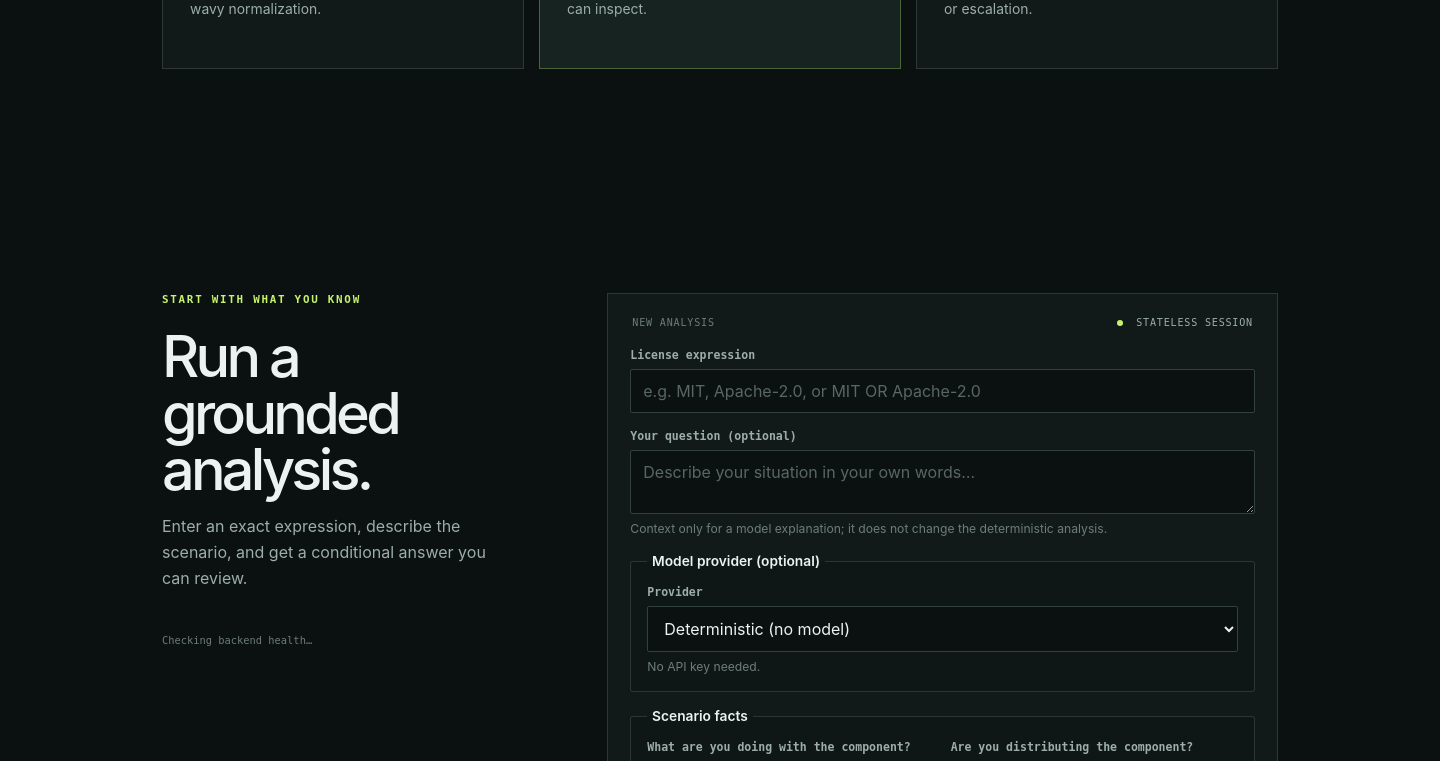
analysis experience › renders an abstention state for a blocked answer
(page scrolled)
Type "Apache-2.0" into the field labelled "License expression" at [943, 391], box 630,369 -> 1255,413
(page scrolled)
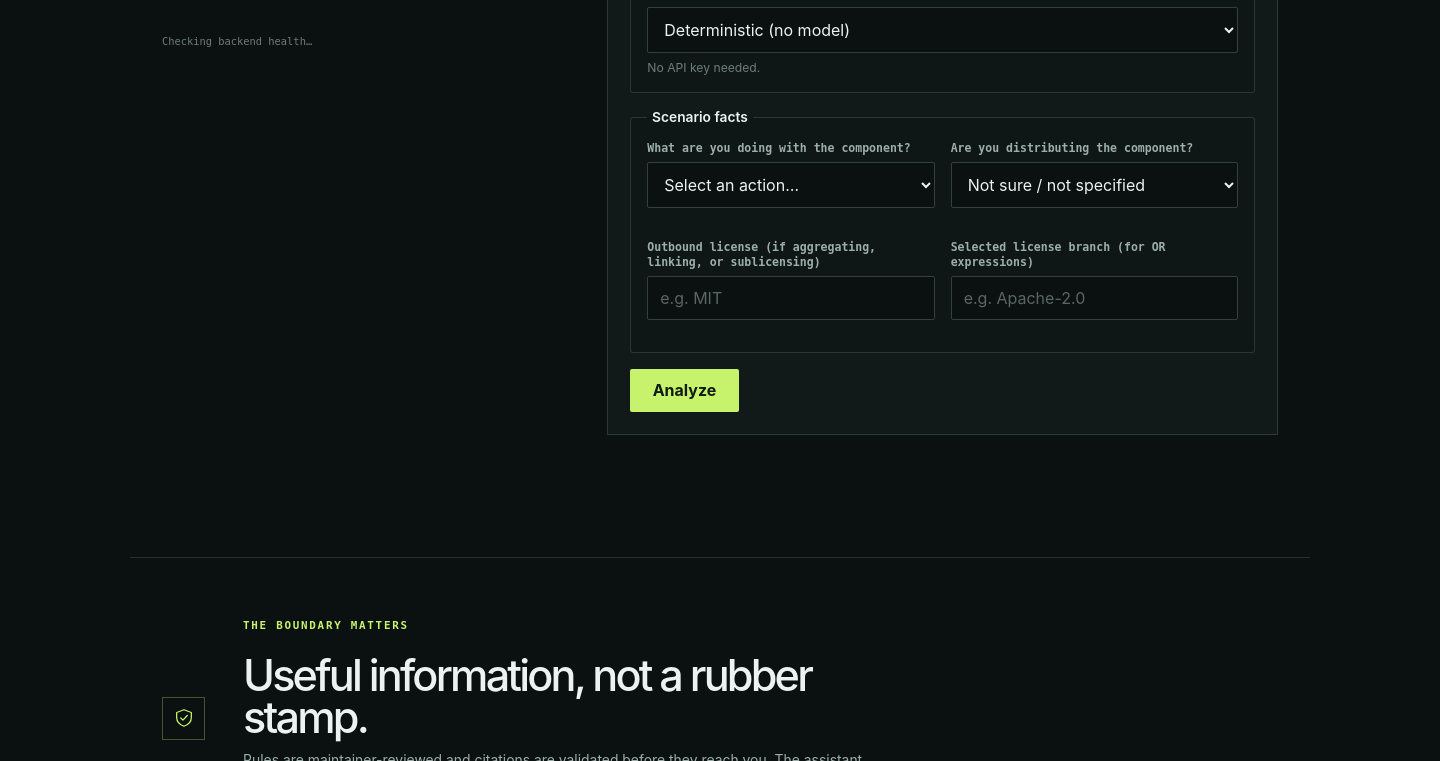
Click the button "Analyze" at [685, 390], box 630,369 -> 739,412
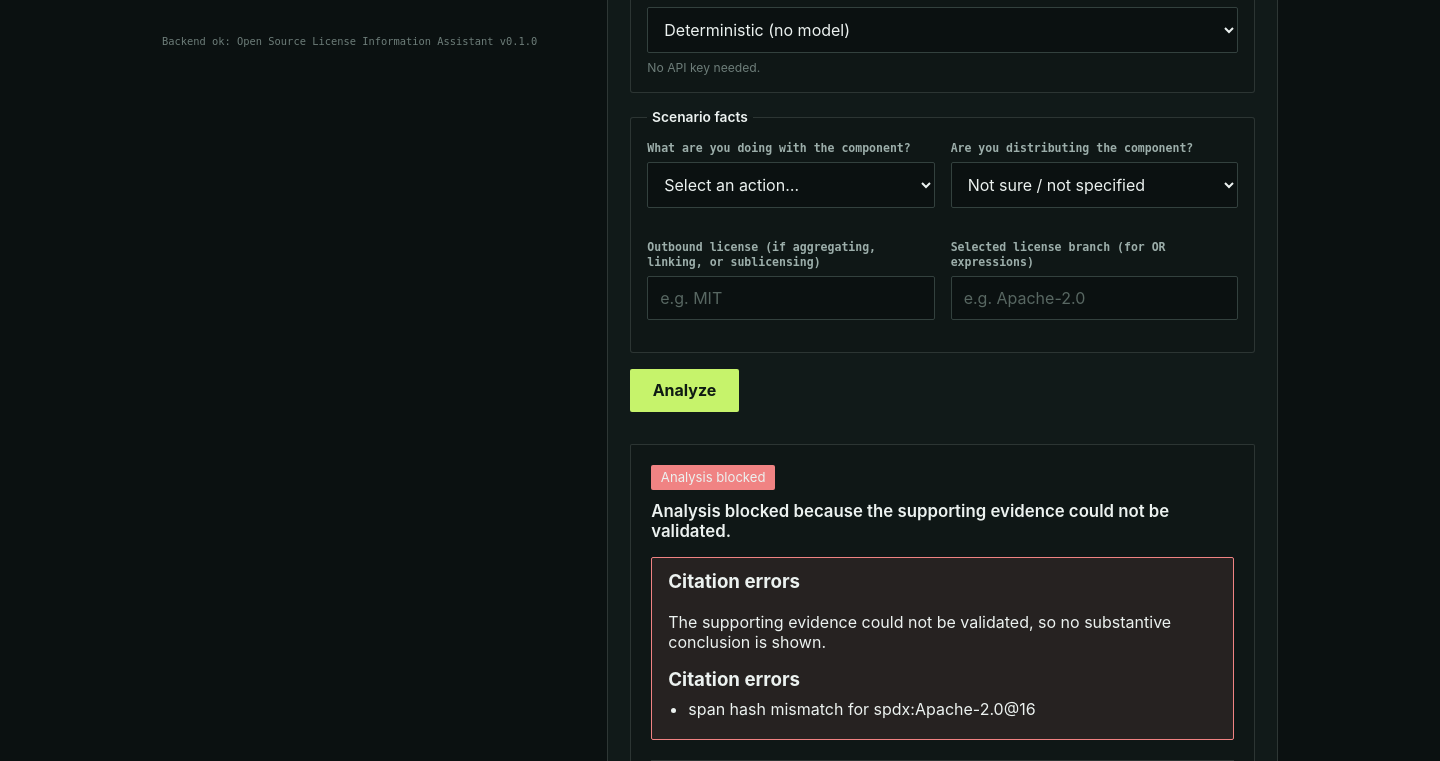
Expected: the message that starts with "Citation errors" shows "supporting evidence could not be validated", 668,612 -> 1171,652
Expected: the list item "span hash mismatch for spdx:Apache-2.0@16" is shown, 688,699 -> 1036,719
